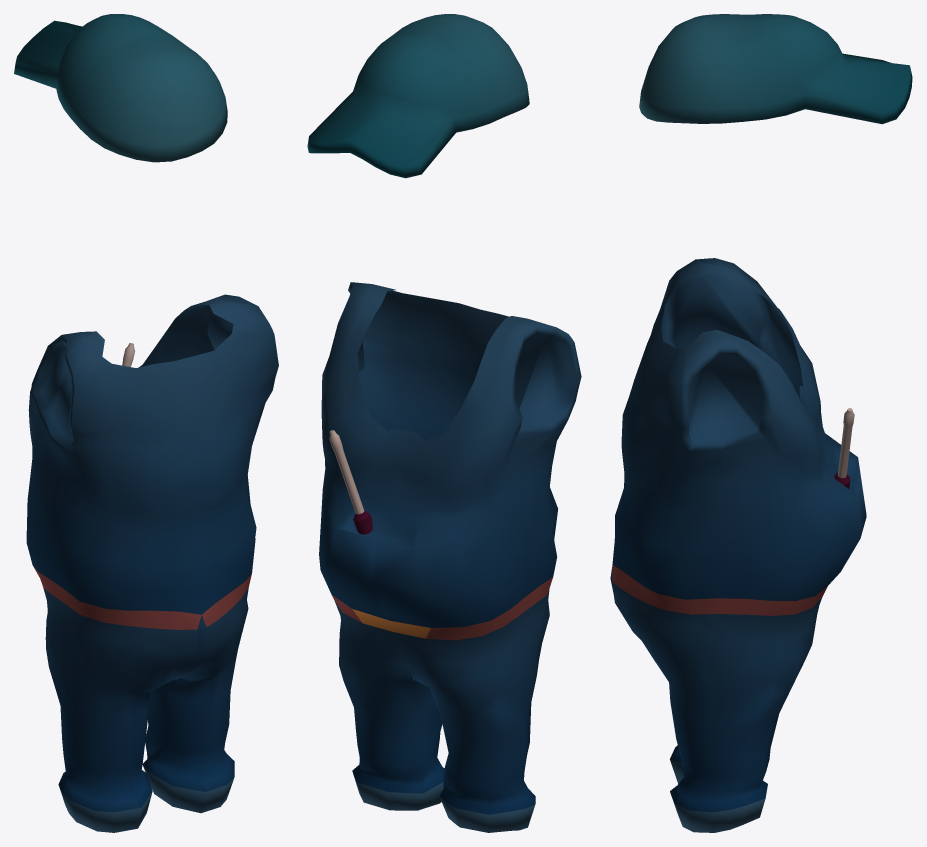
File: MechanicGo..fbx
3 renders of one model, left to right at view 1: azimuth 30°, elevation 25°; view 2: azimuth 150°, elevation 25°; view 3: azimuth 270°, elevation 25°, orthographic. The views are drawn at different scales.
Parts seen in each view (by area): view 1: Sphere; view 2: Sphere; view 3: Sphere.
Boxes of the visible parts, x1,y1,x2,y2 form: Sphere: (14,14,278,832); Sphere: (307,14,581,832); Sphere: (610,14,912,832).
Bounding box in the file's own units: 323 × 1104 × 386.
